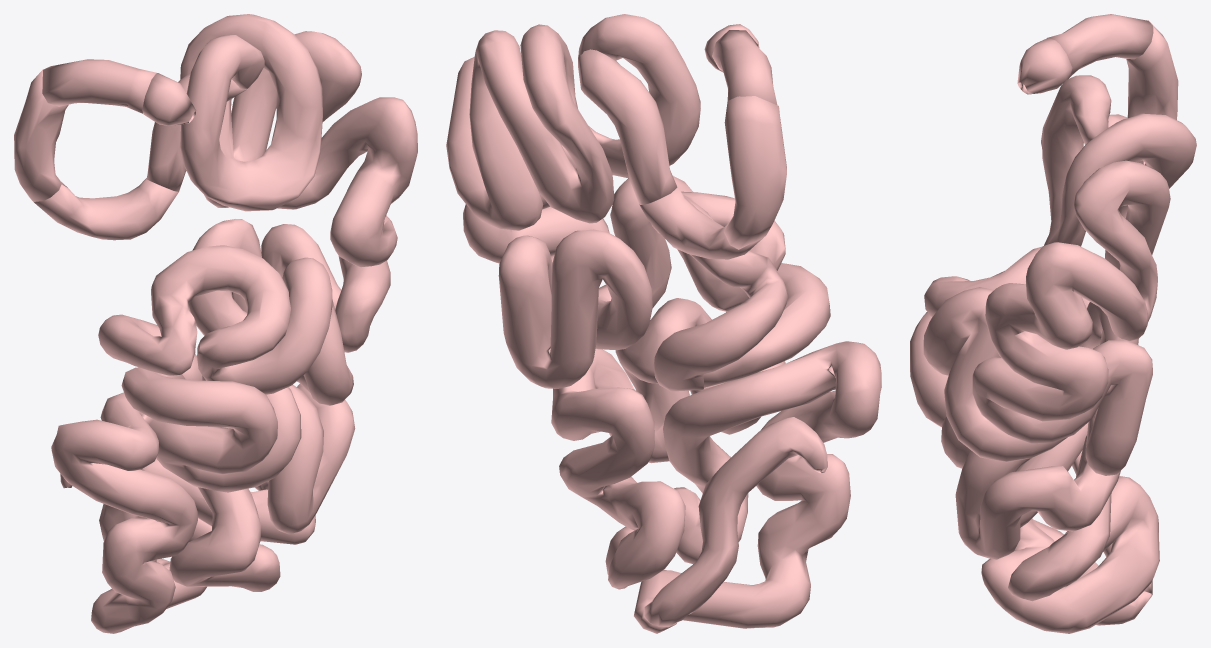
File: vh_m_small_intestine-40.glb
The picture shows the model from 3 angles, left to right: view 1: azimuth 30°, elevation 25°; view 2: azimuth 150°, elevation 25°; view 3: azimuth 270°, elevation 25°; orthographic projection. The views are drawn at different scales.
Parts seen in each view (by area): view 1: VH_M_jejunum, VH_M_ileum, VH_M_duodenum_horizonal, VH_M_duodenum_superior, VH_M_duodenum_descending, VH_M_duodenum_ascending, VH_M_duodenal_ampulla, VH_M_ileum_terminal; view 2: VH_M_jejunum, VH_M_ileum, VH_M_ileum_terminal, VH_M_duodenum_descending, VH_M_duodenum_ascending, VH_M_duodenum_horizonal, VH_M_duodenum_superior; view 3: VH_M_jejunum, VH_M_ileum, VH_M_duodenum_superior, VH_M_duodenum_descending, VH_M_duodenal_ampulla.
Part boxes in pixels (box(x1,y1,x2,y2)): VH_M_jejunum: box(98, 14, 417, 405); VH_M_ileum: box(51, 367, 355, 633); VH_M_duodenum_horizonal: box(34, 178, 178, 240); VH_M_duodenum_superior: box(42, 59, 156, 113); VH_M_duodenum_descending: box(14, 69, 68, 201); VH_M_duodenum_ascending: box(146, 73, 250, 191); VH_M_duodenal_ampulla: box(142, 73, 196, 125); VH_M_ileum_terminal: box(60, 469, 156, 561); VH_M_jejunum: box(446, 14, 787, 391); VH_M_ileum: box(551, 263, 881, 633); VH_M_ileum_terminal: box(644, 417, 827, 627); VH_M_duodenum_descending: box(724, 96, 786, 249); VH_M_duodenum_ascending: box(578, 49, 677, 204); VH_M_duodenum_horizonal: box(639, 187, 765, 259); VH_M_duodenum_superior: box(712, 30, 777, 104); VH_M_jejunum: box(923, 75, 1196, 475); VH_M_ileum: box(910, 312, 1159, 633); VH_M_duodenum_superior: box(1047, 14, 1153, 76); VH_M_duodenum_descending: box(1126, 20, 1178, 119); VH_M_duodenal_ampulla: box(1017, 38, 1072, 94).
Size of the model in its own units: 0.188 by 0.2655 by 0.1219.
